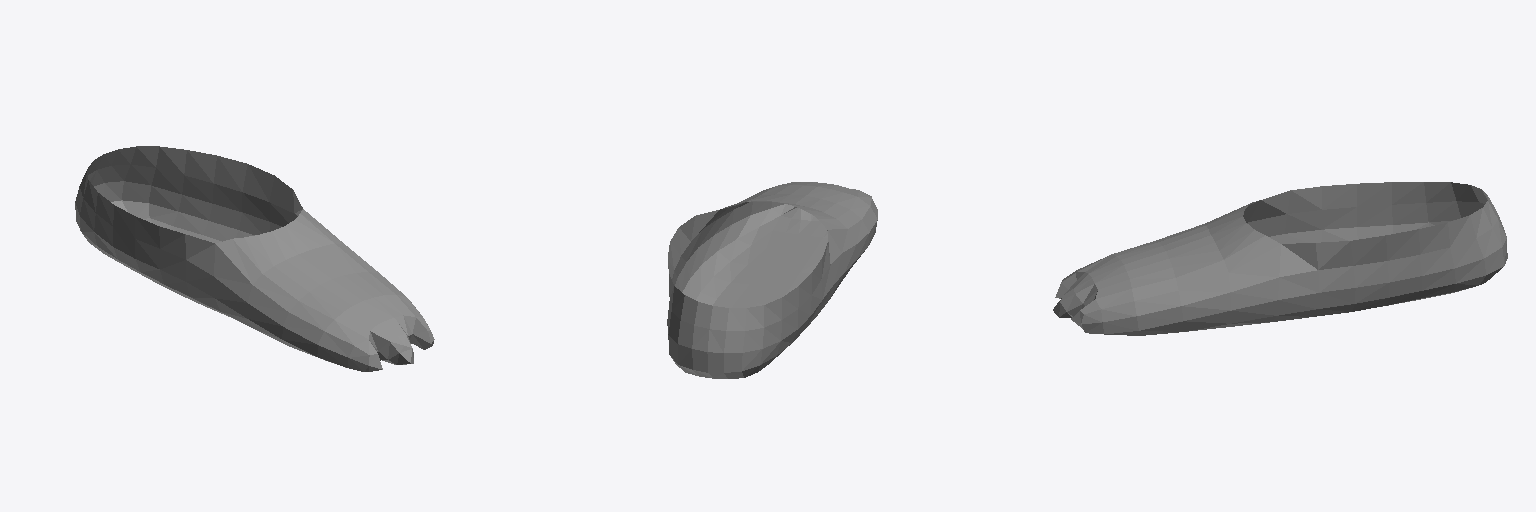
The model's file is pataIzqPicachu.obj.
3 renders of one model, left to right at view 1: azimuth 30°, elevation 25°; view 2: azimuth 150°, elevation 25°; view 3: azimuth 270°, elevation 25°, orthographic.
Parts seen in each view (by area): view 1: pataIzqPic; view 2: pataIzqPic; view 3: pataIzqPic.
Part boxes in pixels (x1,y1,x2,y2): pataIzqPic: (75, 146, 434, 371); pataIzqPic: (667, 182, 877, 378); pataIzqPic: (1053, 182, 1507, 335).
Size of the model in its own units: 0.3745 by 0.1737 by 0.8438.